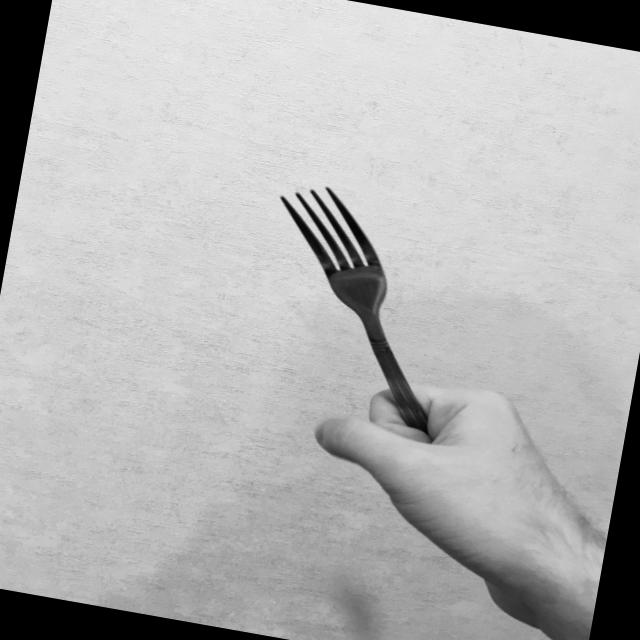fork: (226, 175, 479, 487)
